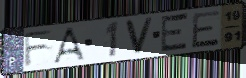1: (102, 20, 120, 60)
A: (51, 26, 88, 65)
E: (159, 11, 190, 54), (190, 9, 221, 50)
F: (23, 28, 55, 68)
V: (123, 17, 155, 56)
